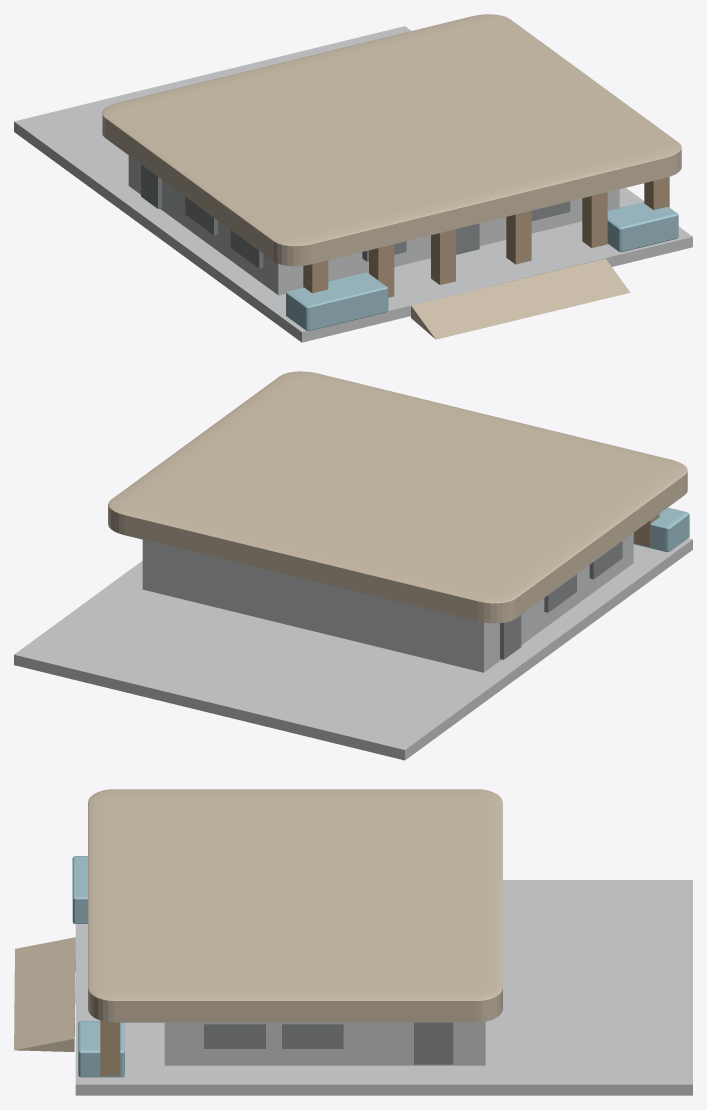
The model's file is rizal.glb.
3 views of the same model, one above another, from view 1: azimuth 30°, elevation 25°; view 2: azimuth 150°, elevation 25°; view 3: azimuth 270°, elevation 25° (orthographic). The views are drawn at different scales.
Visible parts, largest first — view 1: Mesh_Mesh_head_geo.001_lambert2SG.001; view 2: Mesh_Mesh_head_geo.001_lambert2SG.001; view 3: Mesh_Mesh_head_geo.001_lambert2SG.001.
Part boxes in pixels (box(x1,y1,x2,y2)): Mesh_Mesh_head_geo.001_lambert2SG.001: box(14, 14, 692, 342); Mesh_Mesh_head_geo.001_lambert2SG.001: box(14, 371, 692, 760); Mesh_Mesh_head_geo.001_lambert2SG.001: box(14, 789, 692, 1095).
Size of the model in its own units: 203 by 45 by 275.
